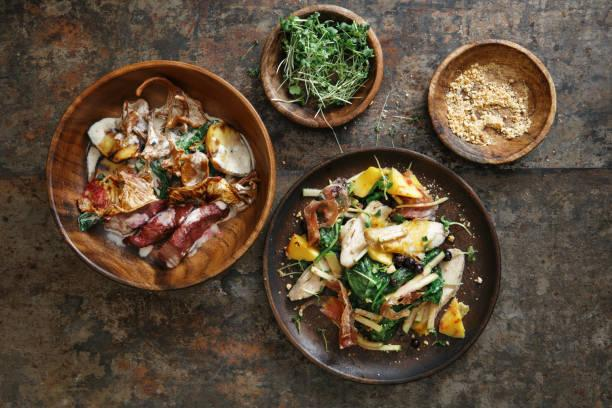Braised Crucian Carp: (261, 148, 497, 383), (46, 59, 273, 290)
